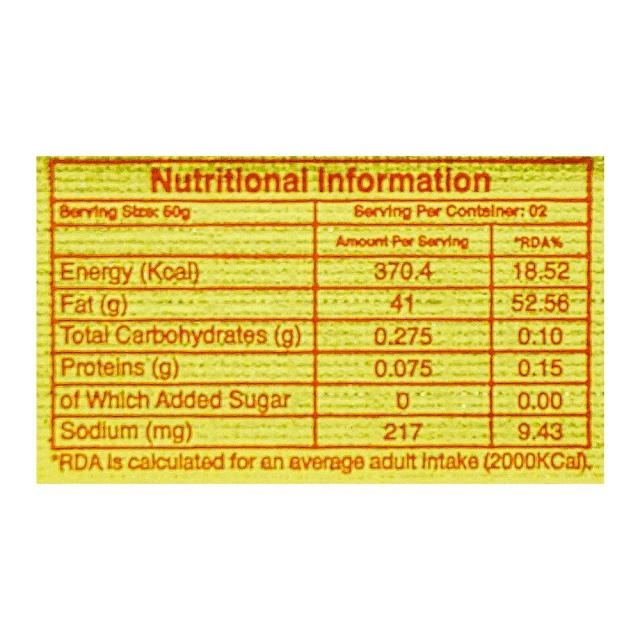butter: (36, 155, 605, 483)
